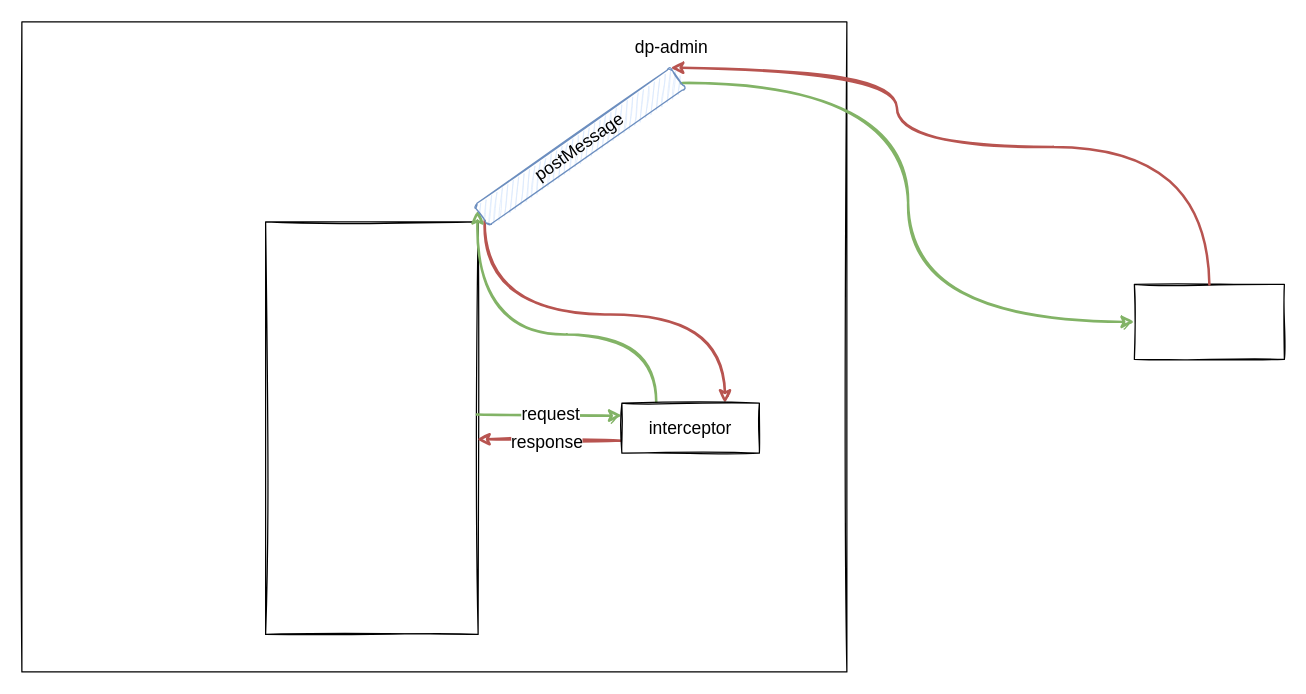
Some shapes in this 1306 by 694 pixel diagram are drawn without their labels. The shapes that lost their labels are listed below. From the top down, each one's centre as x and y in pixels, then its label:
At point 1208,321: "dp admin API".
At point 371,427: "h5".
